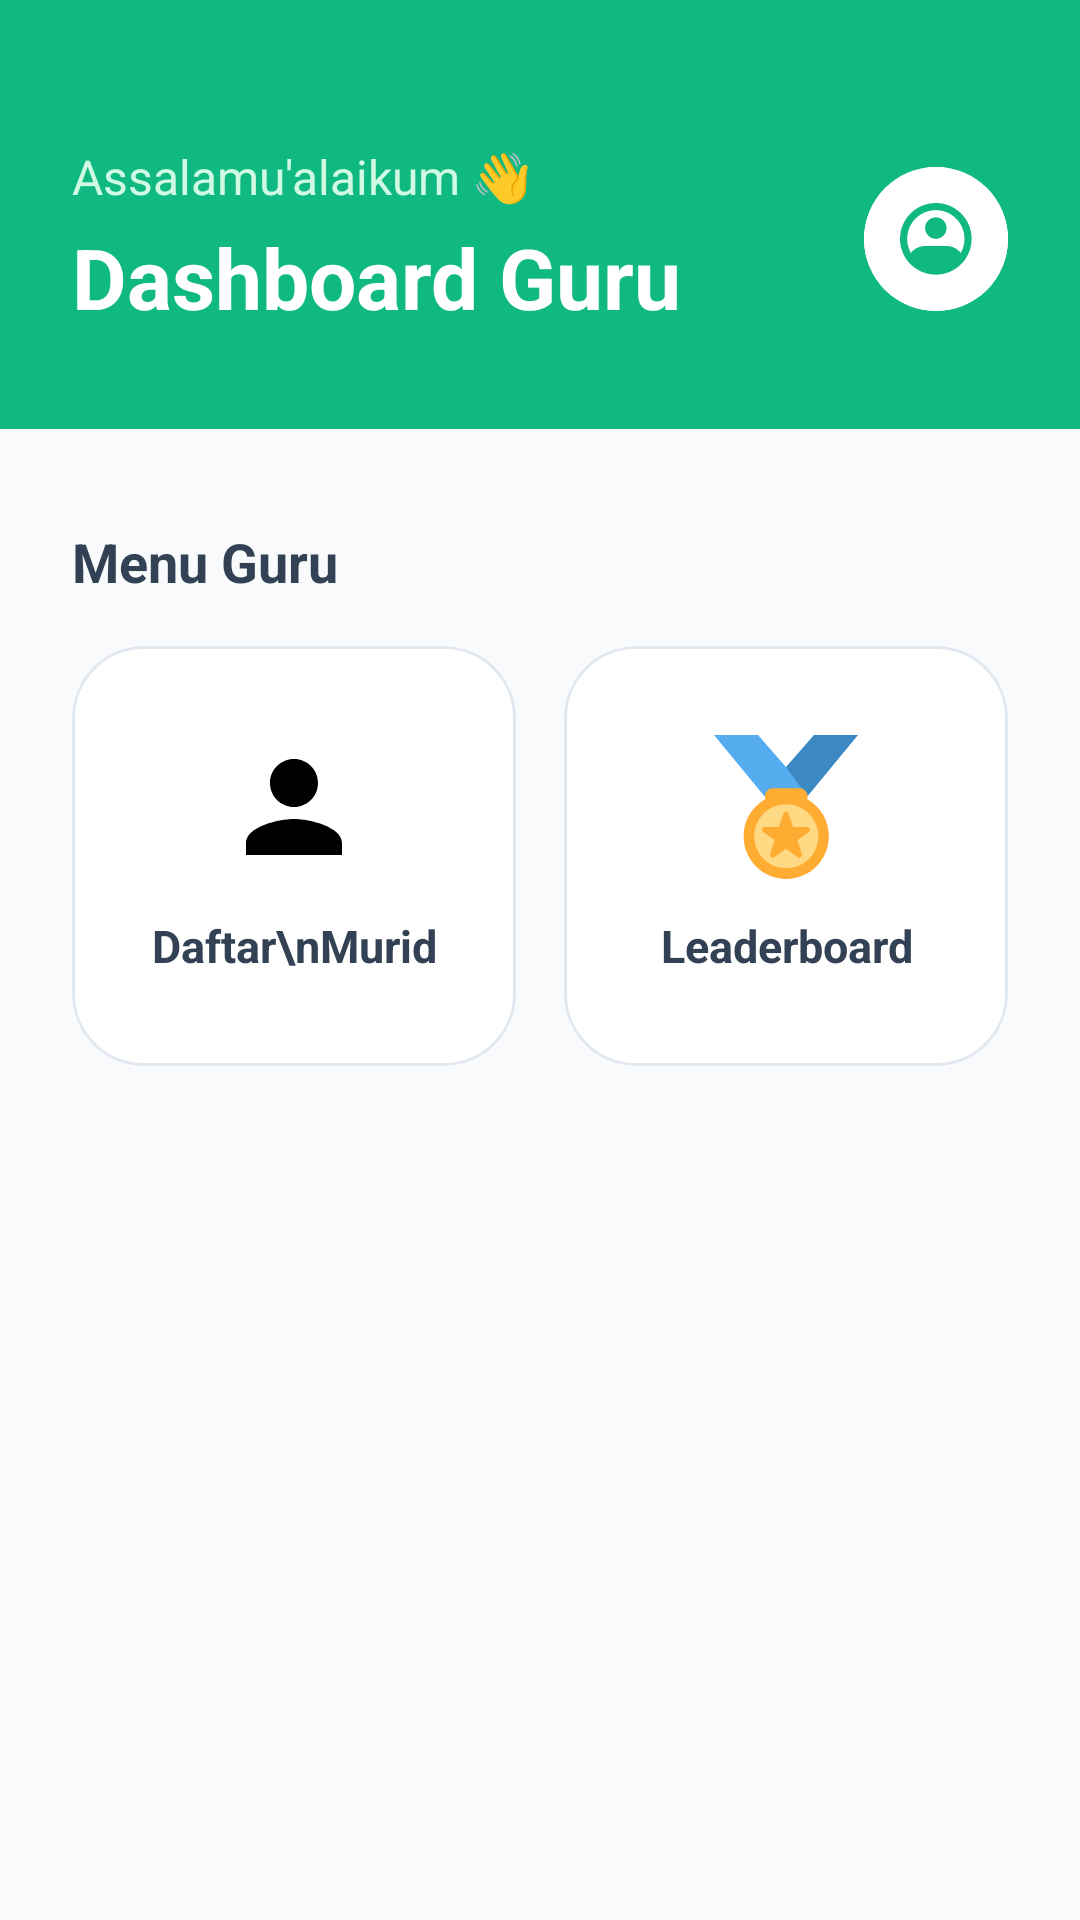

Where to tap for icons on this 1080×1920 app screen, as (x,y):
medali: (786,807)
profil: (936,239)
user: (294,807)
